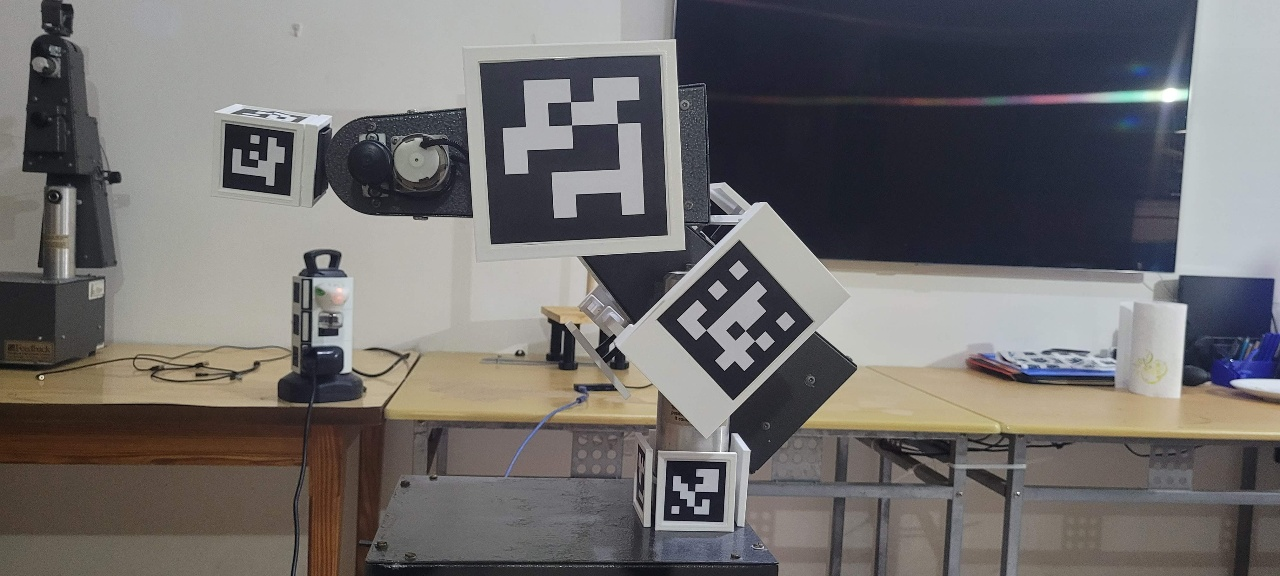Robot: (211, 37, 862, 536)
